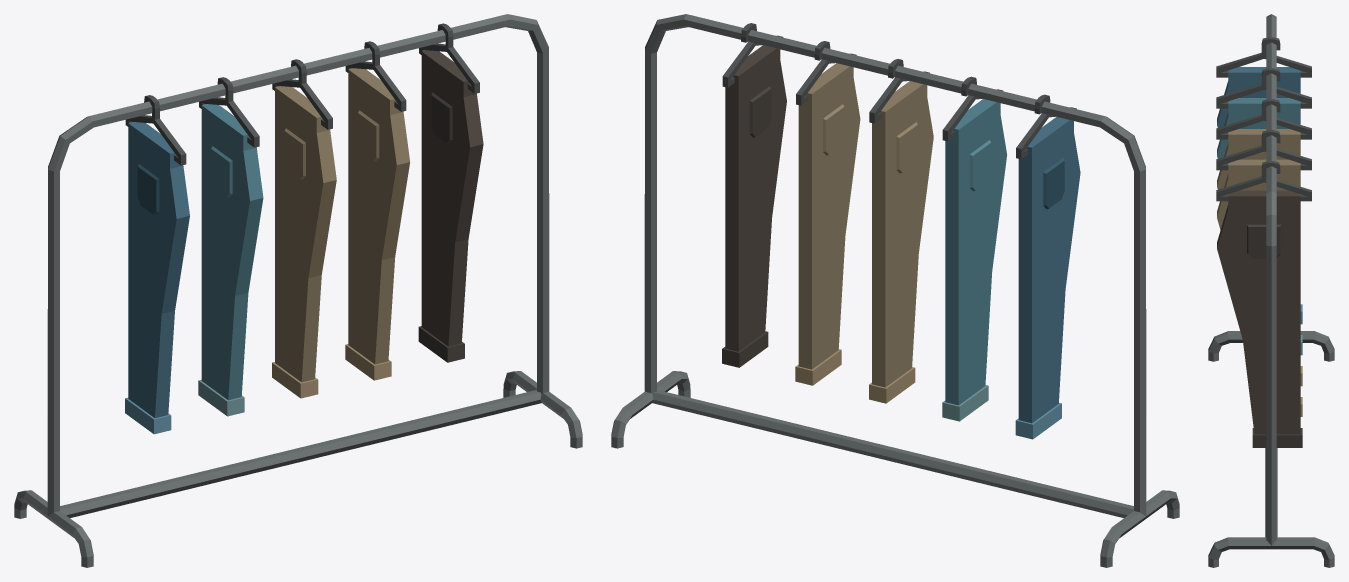
The model's file is SM_Props_Interior_Shop_Clothes_DisplayStand_Pant.fbx.
The picture shows the model from 3 angles, left to right: view 1: azimuth 30°, elevation 25°; view 2: azimuth 150°, elevation 25°; view 3: azimuth 270°, elevation 25°; orthographic projection. The views are drawn at different scales.
Parts seen in each view (by area): view 1: SM_Props_Interior_Shop_Clothes_DisplayStand_Pant; view 2: SM_Props_Interior_Shop_Clothes_DisplayStand_Pant; view 3: SM_Props_Interior_Shop_Clothes_DisplayStand_Pant.
Part boxes in pixels (x1,y1,x2,y2): SM_Props_Interior_Shop_Clothes_DisplayStand_Pant: [14, 14, 582, 567]; SM_Props_Interior_Shop_Clothes_DisplayStand_Pant: [611, 14, 1179, 567]; SM_Props_Interior_Shop_Clothes_DisplayStand_Pant: [1208, 14, 1334, 567].
Size of the model in its own units: 205 by 164 by 51.74.
